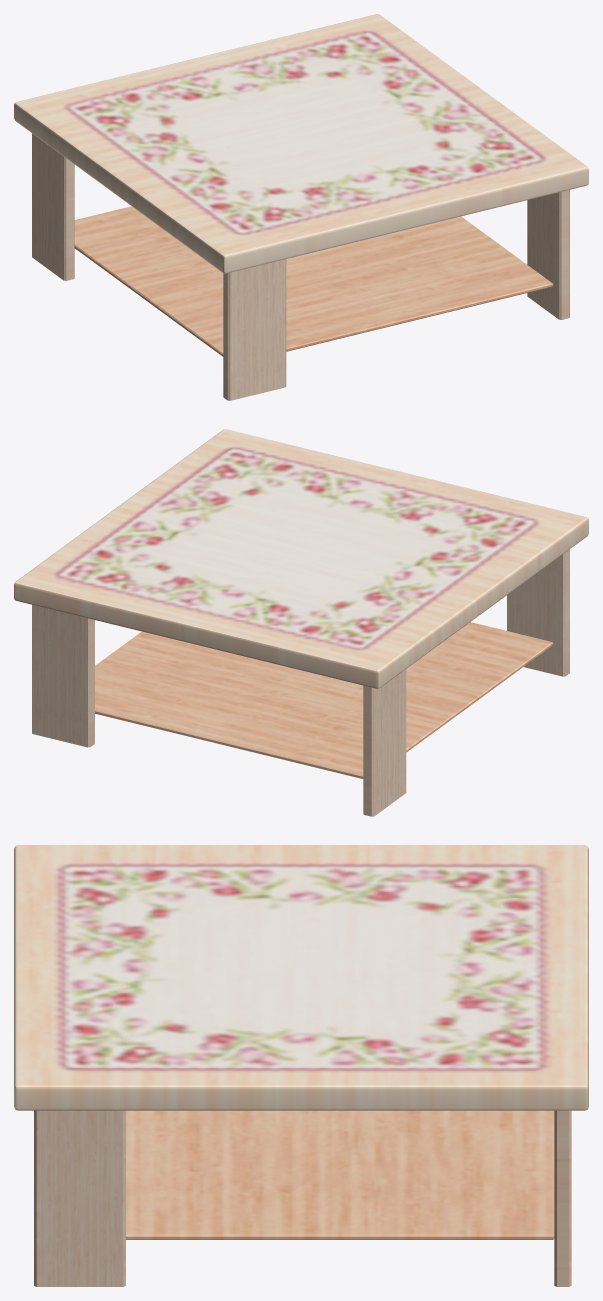
The model's file is sofatable.obj.
3 views of the same model, one above another, from view 1: azimuth 30°, elevation 25°; view 2: azimuth 150°, elevation 25°; view 3: azimuth 270°, elevation 25° (orthographic). The views are drawn at different scales.
Visible parts, largest first — view 1: _TeaTable:pCube1 group62, group62 _TeaTable:pCube6, group62 _TeaTable:pCube2, group62 _TeaTable:pCube5, group62 _TeaTable:pCube3; view 2: _TeaTable:pCube1 group62, group62 _TeaTable:pCube6, group62 _TeaTable:pCube4, group62 _TeaTable:pCube5, group62 _TeaTable:pCube2; view 3: _TeaTable:pCube1 group62, group62 _TeaTable:pCube6, group62 _TeaTable:pCube3, group62 _TeaTable:pCube4.
Part boxes in pixels (x1,y1,x2,y2): _TeaTable:pCube1 group62: [14, 14, 588, 273]; group62 _TeaTable:pCube6: [74, 206, 553, 356]; group62 _TeaTable:pCube2: [223, 259, 286, 400]; group62 _TeaTable:pCube5: [32, 133, 74, 280]; group62 _TeaTable:pCube3: [527, 190, 569, 319]; _TeaTable:pCube1 group62: [14, 429, 588, 688]; group62 _TeaTable:pCube6: [95, 622, 553, 778]; group62 _TeaTable:pCube4: [32, 604, 94, 747]; group62 _TeaTable:pCube5: [363, 669, 406, 816]; group62 _TeaTable:pCube2: [507, 549, 569, 676]; _TeaTable:pCube1 group62: [14, 845, 588, 1110]; group62 _TeaTable:pCube6: [126, 1110, 554, 1239]; group62 _TeaTable:pCube3: [34, 1110, 125, 1286]; group62 _TeaTable:pCube4: [554, 1110, 571, 1286].
Bounding box in the file's own units: 100 × 40 × 100.
